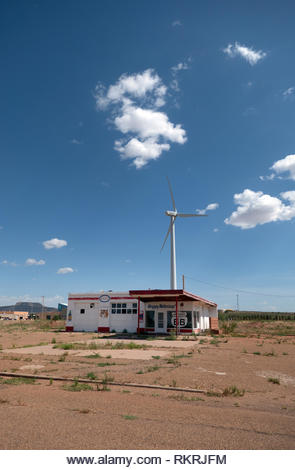working: (146, 171, 212, 273)
